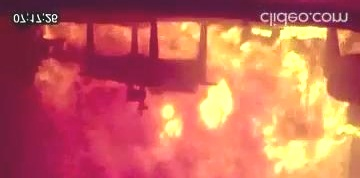fire: (47, 28, 360, 178)
